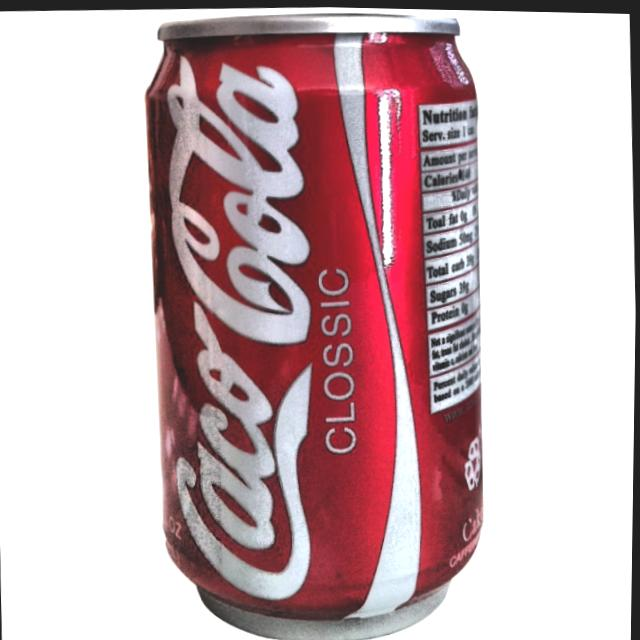Cans: (125, 2, 524, 633)
